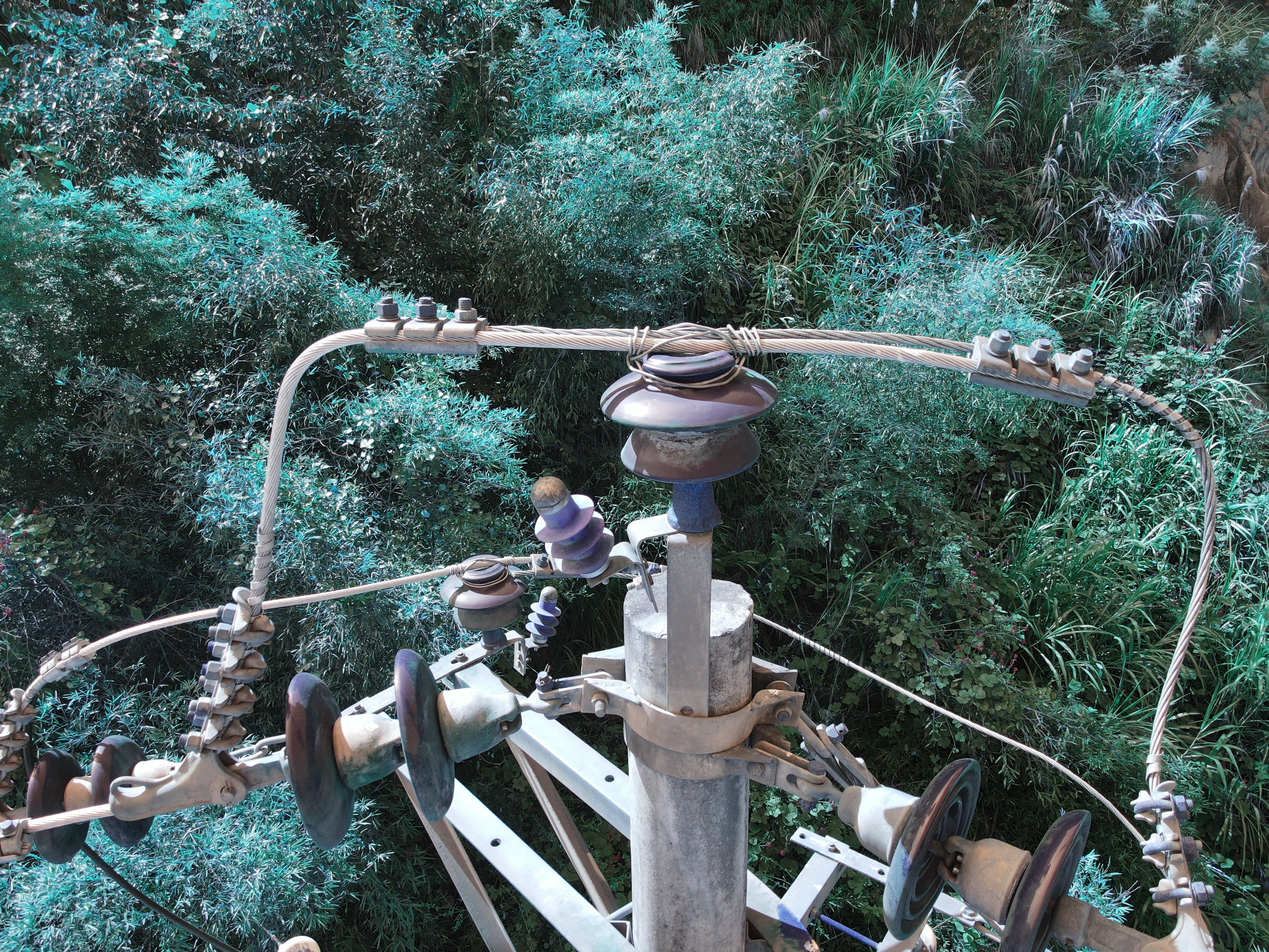severe_soiling_no_discharge_whole: (277, 644, 527, 856), (825, 749, 1097, 933), (597, 338, 782, 490), (438, 553, 530, 633)
